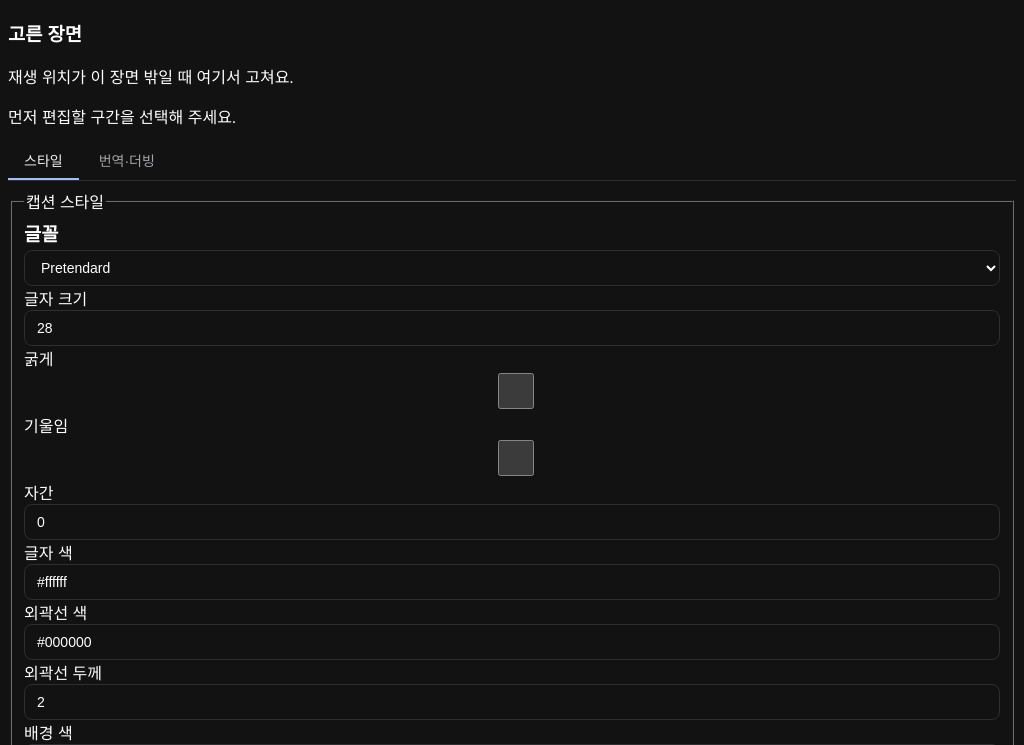
Scenario: 목소리 더빙 › 옮긴 언어만 더빙할 수 있다
Click the tab "번역·더빙": (127, 162) left=83, top=144, right=171, bottom=180
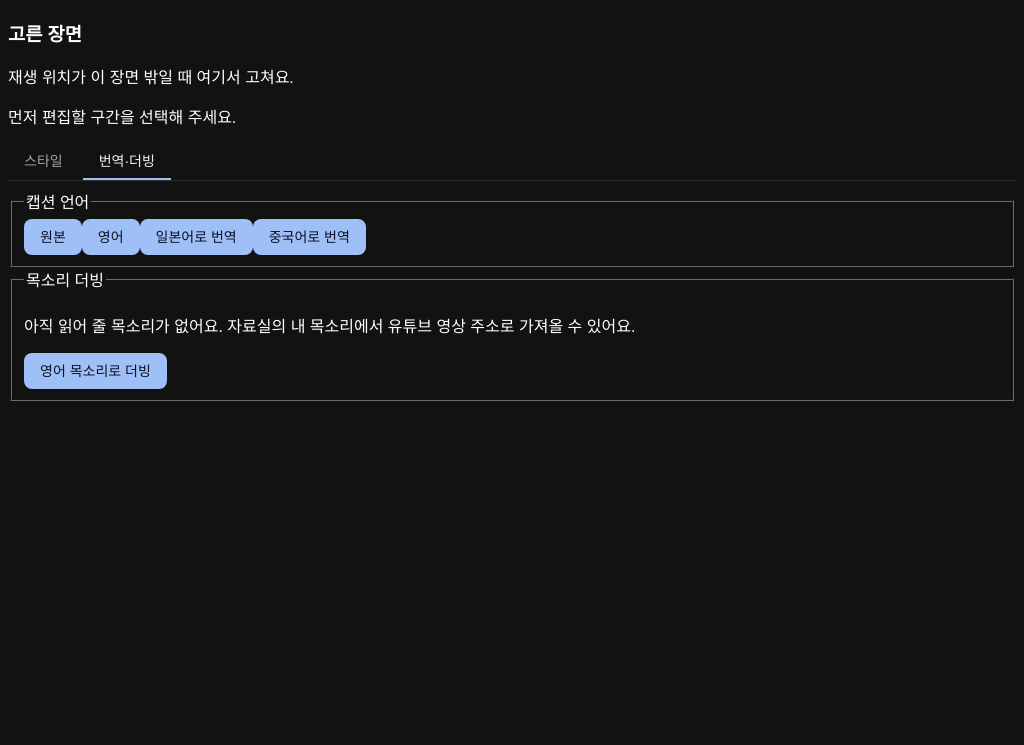
Now the button "영어 목소리로 더빙" is shown, box left=24, top=353, right=167, bottom=389
